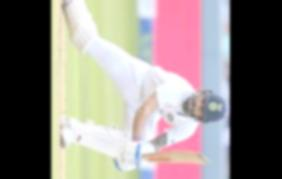batsman: (51, 0, 228, 179)
